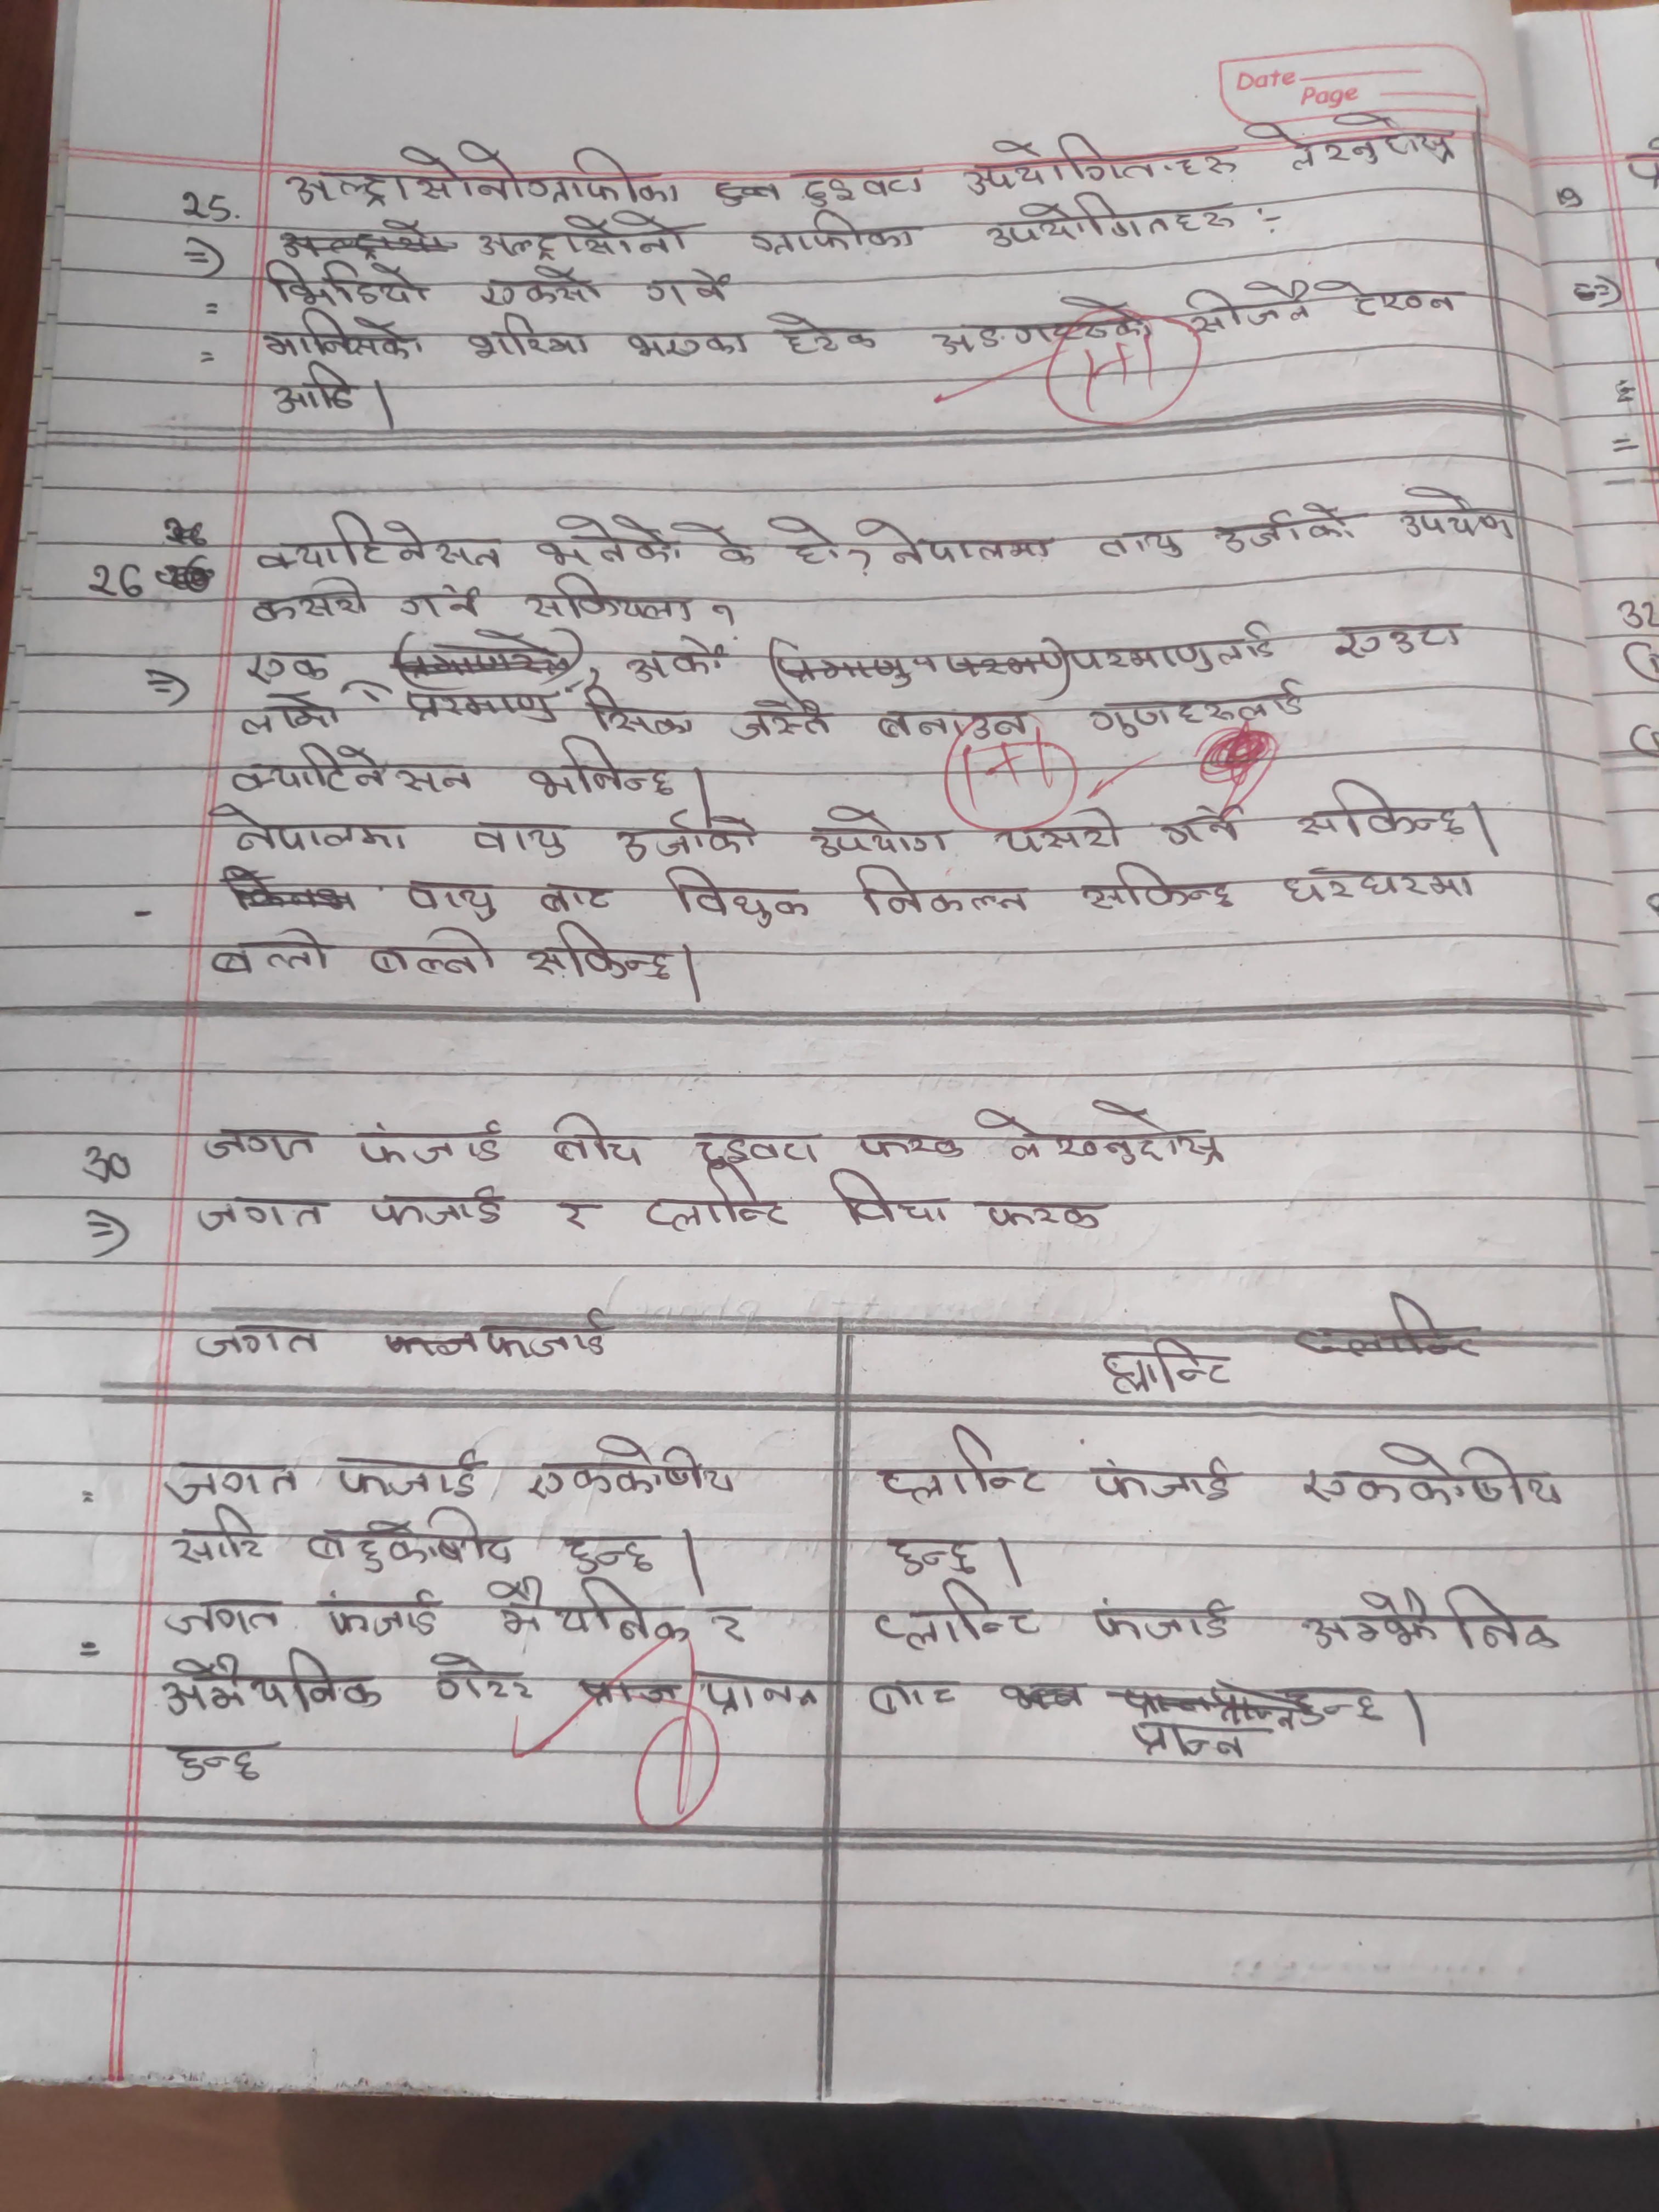text: (284, 141, 687, 207), (1293, 1587, 1565, 1655), (1300, 1440, 1568, 1508), (258, 503, 504, 575), (978, 1103, 1230, 1169), (964, 132, 1234, 192), (985, 190, 1237, 251), (934, 291, 1154, 361), (160, 1651, 390, 1716), (488, 1576, 692, 1646), (227, 745, 477, 801), (523, 1433, 746, 1496), (873, 1425, 1047, 1505), (1244, 111, 1466, 171), (298, 1512, 519, 1569), (1293, 775, 1467, 846), (875, 1578, 1044, 1649), (472, 207, 695, 261), (1086, 681, 1304, 735), (849, 859, 1035, 920), (1065, 620, 1281, 672), (207, 803, 418, 855), (526, 920, 676, 993), (641, 1167, 795, 1235), (664, 864, 816, 930), (525, 571, 704, 627), (854, 517, 1063, 563), (261, 254, 430, 310), (526, 742, 676, 805), (1094, 1336, 1243, 1399), (333, 1446, 486, 1505), (260, 307, 427, 361), (1079, 862, 1237, 918), (1086, 1453, 1244, 1507), (538, 510, 681, 570), (1277, 862, 1483, 902), (749, 211, 924, 258), (1209, 502, 1361, 556), (354, 1116, 505, 1170), (1086, 1590, 1237, 1644), (613, 813, 763, 867), (695, 1658, 831, 1717), (805, 806, 953, 860), (1396, 479, 1520, 542), (824, 1167, 948, 1230), (1185, 280, 1323, 336), (401, 685, 561, 732), (364, 925, 498, 981), (479, 1308, 610, 1364), (467, 308, 592, 366), (247, 573, 371, 629), (206, 923, 333, 977), (582, 683, 697, 742), (765, 307, 890, 361), (1323, 273, 1464, 320), (162, 1456, 307, 1501), (544, 1103, 645, 1167), (167, 1505, 270, 1568), (185, 1191, 336, 1233), (1127, 1716, 1255, 1764), (782, 164, 931, 206), (317, 1587, 439, 1637), (1330, 618, 1471, 662), (993, 808, 1124, 853), (690, 1120, 816, 1167), (429, 1649, 537, 1703), (162, 1738, 277, 1789), (368, 1186, 500, 1230), (162, 1595, 288, 1641), (866, 707, 1026, 742), (474, 266, 601, 310), (725, 702, 838, 751), (558, 1527, 666, 1578), (272, 361, 361, 421), (399, 876, 507, 925), (983, 1190, 1108, 1231), (887, 1527, 988, 1578), (627, 319, 748, 361), (469, 815, 575, 862), (624, 636, 728, 683), (678, 514, 765, 570), (193, 1324, 326, 1360), (1154, 799, 1246, 852), (240, 637, 335, 688), (1284, 1684, 1392, 1728), (240, 690, 342, 735), (849, 1129, 967, 1167), (638, 261, 734, 308), (866, 1670, 962, 1717), (770, 512, 842, 575), (192, 1130, 324, 1163), (396, 578, 486, 622), (537, 876, 626, 920), (1094, 524, 1187, 561), (706, 1608, 751, 1646), (549, 1198, 601, 1231)
